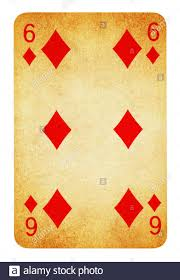six of diamonds: (13, 13, 167, 247)
